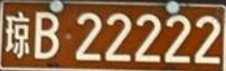B: (35, 12, 59, 59)
